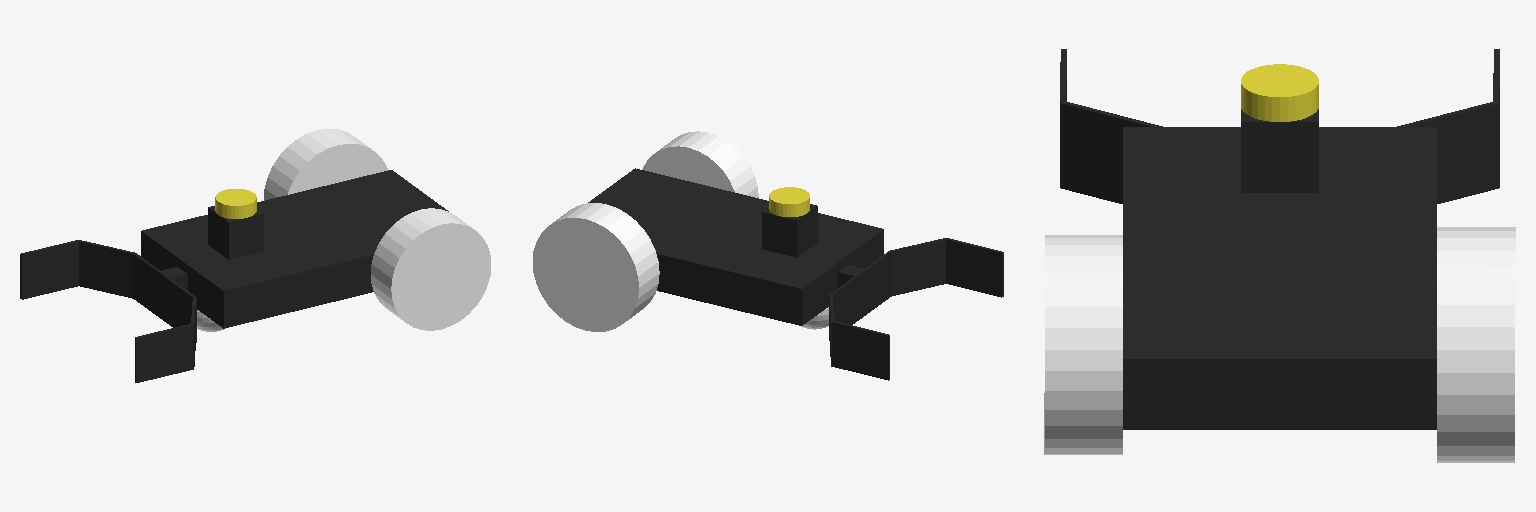
URDF robot description (exploDollyrer):
<?xml version="1.0" ?>
  <robot name="exploDollyrer">


  <link name="base_footprint">
    <visual>
      <geometry>
          <box size="0.35 0.2 0.05"/>
      </geometry>
      <material name="gray">
        <color rgba=".2 .2 .2 1" />
      </material>
    </visual>
    <inertial>
            <mass value="1" />
            <inertia ixx="0.01" ixy="0.0" ixz="0" 
            iyy="0.01" iyz="0" izz="0.01" />
    </inertial>
    <collision>
      <geometry>
        <box size="0.35 0.2 0.05"/>
    </geometry>
      
    </collision>
  </link>

  <link name="wheel_right_link">
    <inertial>
            <mass value="2" />
            <inertia ixx="0.01" ixy="0" ixz="0" iyy="0.01" iyz="0" izz="0.01" />
    </inertial>

    <visual>
      <geometry>
          <cylinder radius="0.075" length="0.05"/>
      </geometry>
      <material name="white">
        <color rgba="1 1 1 1"/>
      </material>
    </visual>

    <collision>
      <geometry>
        <cylinder radius="0.075" length="0.05"/>
      </geometry>
      <surface>
        <friction>
          <ode>
            <mu>0</mu>
            <mu2>0</mu2>
            <slip1>1.0</slip1>
            <slip2>1.0</slip2>
          </ode>
        </friction>
      </surface>
      <contact_coefficients mu="1" kp="1e+13" kd="1.0"/>
    </collision>
  </link>

  <joint name="wheel_right_joint" type="continuous">
    <origin xyz="0.1 0.125 0.0" rpy="1.57 0.0 0.0"/>
    <parent link="base_footprint"/>
    <child link="wheel_right_link"/>
    <axis xyz="0.0 0.0 1.0"/>
  </joint>

  <link name="wheel_left_link">
    <inertial>
       <mass value="2" />
       <inertia ixx="0.01" ixy="0" ixz="0" iyy="0.01" iyz="0" izz="0.01" />
    </inertial>

    <visual>
      <geometry>
          <cylinder radius="0.07" length="0.05"/>
      </geometry>
      <material name="white">
        <color rgba="1 1 1 1"/>
      </material>
    </visual>

    <collision>
      <geometry>
        <cylinder radius="0.07" length="0.05"/>
      </geometry>
      <surface>
        <friction>
          <ode>
            <mu>0</mu>
            <mu2>0</mu2>
            <slip1>1.0</slip1>
            <slip2>1.0</slip2>
          </ode>
        </friction>
      </surface>
      <contact_coefficients mu="1" kp="1e+13" kd="1.0"/>
    </collision>
  </link>

  <joint name="wheel_left_joint" type="continuous">
    <origin xyz="0.1 -0.125 0.0" rpy="1.57 0.0 0.0"/>
    <parent link="base_footprint"/>
    <child link="wheel_left_link"/>
    <axis xyz="0.0 0.0 1.0"/>

  </joint>

  <link name="caster">
    <inertial>
            <mass value="1" />
            <inertia ixx="0.01" ixy="0.0" ixz="0" iyy="0.01" iyz="0" izz="0.01" />
    </inertial>

    <visual>
      <geometry>
        <sphere radius=".04" />
      </geometry>
      <material name="white" />
    </visual>

    <collision>
      <geometry>
        <sphere radius=".04" />
      </geometry>
      <surface>
        <friction>
          <ode>
            <mu>0</mu>
            <mu2>0</mu2>
            <slip1>1.0</slip1>
            <slip2>1.0</slip2>
          </ode>
        </friction>
      </surface>
    </collision>
  </link>

  <joint name="caster_joint" type="continuous">
    <origin xyz="-0.135 0.0 -0.035" rpy="0.0 0.0 0.0"/>
    <axis xyz="0 0 1" />
    <parent link="base_footprint"/>
    <child link="caster"/>
  </joint>


<!--Front arm-->
<link name="front_arm_bar">
  <visual>
      <geometry>
          <box size="0.025 0.025 0.025"/>
      </geometry>
      <material name="gray">
        <color rgba=".2 .2 .2 1" />
      </material>
  </visual>

  <collision>
    <geometry>
      <box size="0.025 0.025 0.025"/>
    </geometry>
  </collision>

  <inertial>
      <mass value="0.5"/>
      <inertia ixx="0.01" ixy="0.0" ixz="0" iyy="0.01" iyz="0" izz="0.01" />
  </inertial>
</link>
<joint name="front_arm_bar_joint" type="fixed">
  <axis xyz="0.0 1 0.0"/>
  <parent link="base_footprint"/>
  <child link="front_arm_bar"/>
  <origin xyz="-0.187 0.0 -0.0" rpy="0.0 0.0 0.0"/>
</joint>
<!--==========================================================-->

<link name="front_arm_bar_m">
  <visual>
      <geometry>
          <box size="0.004 0.15 0.06"/>
      </geometry>
      <material name="gray">
        <color rgba=".2 .2 .2 1" />
      </material>
  </visual>

  <collision>
    <geometry>
      <box size="0.004 0.15 0.06"/>
    </geometry>
  </collision>

  <inertial>
    <mass value="0.5"/>
    <inertia ixx="0.01" ixy="0.0" ixz="0" iyy="0.01" iyz="0" izz="0.01" />
  </inertial>
</link>
<joint name="front_arm_bar_m_joint" type="fixed">
  <axis xyz="0.0 1 0.0"/>
  <parent link="base_footprint"/>
  <child link="front_arm_bar_m"/>
  <origin xyz="-0.2 0.0 -0.018" rpy="0.0 0.0 0.0"/>
</joint>
<!--==========================================================-->

<link name="front_arm_bar_s1">
  <visual>
      <geometry>
          <box size="0.004 0.08 0.06"/>
      </geometry>
      <material name="gray">
        <color rgba=".2 .2 .2 1" />
      </material>
  </visual>

  <collision>
    <geometry>
      <box size="0.004 0.08 0.06"/>
    </geometry>
  </collision>

  <inertial>
    <mass value="0.5"/>
    <inertia ixx="0.01" ixy="0.0" ixz="0" iyy="0.01" iyz="0" izz="0.01" />
  </inertial>
</link>
<joint name="front_arm_bar_s1_joint" type="fixed">
  <axis xyz="0.0 1 0.0"/>
  <parent link="base_footprint"/>
  <child link="front_arm_bar_s1"/>
  <origin xyz="-0.22 0.105 -0.018" rpy="0.0 0.0 0.55"/>
</joint>
<!--==========================================================-->

<link name="front_arm_bar_s2">
  <visual>
      <geometry>
          <box size="0.004 0.08 0.06"/>
      </geometry>
      <material name="gray">
        <color rgba=".2 .2 .2 1" />
      </material>
  </visual>

  <collision>
    <geometry>
      <box size="0.004 0.08 0.06"/>
    </geometry>
  </collision>

  <inertial>
    <mass value="0.5"/>
    <inertia ixx="0.01" ixy="0.0" ixz="0" iyy="0.01" iyz="0" izz="0.01" />
  </inertial>
</link>
<joint name="front_arm_bar_s2_joint" type="fixed">
  <axis xyz="0.0 1 0.0"/>
  <parent link="base_footprint"/>
  <child link="front_arm_bar_s2"/>
  <origin xyz="-0.22 -0.105 -0.018" rpy="0.0 0.0 -0.55"/>
</joint>
<!--==========================================================-->

<link name="front_arm_bar_r1">
  <visual>
      <geometry>
          <box size="0.004 0.08 0.06"/>
      </geometry>
      <material name="gray">
        <color rgba=".2 .2 .2 1" />
      </material>
  </visual>

  <collision>
    <geometry>
      <box size="0.004 0.08 0.06"/>
    </geometry>
  </collision>

  <inertial>
    <mass value="0.5"/>
    <inertia ixx="0.01" ixy="0.0" ixz="0" iyy="0.01" iyz="0" izz="0.01" />
  </inertial>
</link>
<joint name="front_arm_bar_r1_joint" type="fixed">
  <axis xyz="0.0 1 0.0"/>
  <parent link="base_footprint"/>
  <child link="front_arm_bar_r1"/>
  <origin xyz="-0.28 -0.138 -0.018" rpy="0.0 0.0 -1.578"/>
</joint>
<!--==========================================================-->

<link name="front_arm_bar_r2">
  <visual>
      <geometry>
          <box size="0.004 0.08 0.06"/>
      </geometry>
      <material name="gray">
        <color rgba=".2 .2 .2 1" />
      </material>
  </visual>

  <collision>
    <geometry>
      <box size="0.004 0.08 0.06"/>
    </geometry>
  </collision>

  <inertial>
    <mass value="0.5"/>
    <inertia ixx="0.01" ixy="0.0" ixz="0" iyy="0.01" iyz="0" izz="0.01" />
  </inertial>
</link>
<joint name="front_arm_bar_r2_joint" type="fixed">
  <axis xyz="0.0 1 0.0"/>
  <parent link="base_footprint"/>
  <child link="front_arm_bar_r2"/>
  <origin xyz="-0.28 0.138 -0.018" rpy="0.0 0.0 -1.578"/>
</joint>
<!--==========================================================-->

<!--Laser block-->
  <link name="laser_scanner">
    <visual>
        <geometry>
            <box size="0.05 0.05 0.05"/>
        </geometry>
        <material name="gray">
          <color rgba=".2 .2 .2 1" />
        </material>
    </visual>

    <collision>
      <geometry>
        <box size="0.05 0.05 0.05"/>
    </geometry>
    </collision>

    <inertial>
      <mass value="1" />
      <inertia ixx="0.01" ixy="0.0" ixz="0" iyy="0.01" iyz="0" izz="0.01" />
</inertial>
  </link>
<joint name="laser_scanner_joint" type="fixed">
  <axis xyz="0.0 1 0.0"/>
  <parent link="base_footprint"/>
  <child link="laser_scanner"/>
  <origin xyz="-0.1 0.0 0.05" rpy="0.0 0.0 0.0"/>
</joint>

<!-- laser -->
<link name="laser">
  <inertial>
    <mass value="1e-5"/>
    <inertia ixx="1e-6" ixy="0" ixz="0.0" iyy="1e-6" iyz="0.0" izz="1e-6"/>
</inertial>

  <visual>
    <geometry>
      <cylinder radius="0.025" length="0.025"/> 
     </geometry>
  </visual>

  <collision>
    <origin/>
    <geometry>
      <cylinder radius="0.025" length="0.025"/> 
    </geometry>
  </collision>
</link>

<joint name="laser_joint" type="fixed">
  <origin xyz="-0.1 0.0 0.08" rpy="0.0 0.0 3.14"/>
  <axis xyz="0 0 1" />
  <parent link="base_footprint"/>
  <child link="laser"/>
</joint>


<gazebo reference="laser">
  <sensor type="ray" name="laser">
      <pose>0 0 0 0 0 0</pose>
      <visualize>true</visualize>
      <update_rate>40</update_rate>
      <ray>
          <scan>
              <horizontal>
                  <samples>720</samples>
                  <resolution>0.5</resolution>
                  <min_angle>-1.578</min_angle>
                  <max_angle>1.578</max_angle>
              </horizontal>
          </scan>
          <range>
              <min>0.1</min>
              <max>2</max>
              <resolution>0.1</resolution>
          </range>
      </ray>
      <plugin name="laser_controller" filename="libgazebo_ros_laser.so">
        
          <topicName>/scan</topicName>
          <frameName>laser</frameName>
      </plugin>
  </sensor>
</gazebo>


<!-- DIFFENERNTIAL DRIVEEEEEEEEEEEEE -->

<gazebo>
  <plugin name="Dolly_bot_controller"
          filename="libgazebo_ros_diff_drive.so">
      <leftJoint>wheel_left_joint</leftJoint>
      <rightJoint>wheel_right_joint</rightJoint>
      <legacyMode>false</legacyMode>
      
      <robotbase_footprintFrame>base_footprint</robotbase_footprintFrame>
      <wheelSeparation>0.125</wheelSeparation>
      <wheelDiameter>0.035</wheelDiameter>
      <publishWheelJointState>true</publishWheelJointState>
  </plugin>
</gazebo>
 <gazebo>
  <plugin name="joint_state_publisher"
          filename="libgazebo_ros_joint_state_publisher.so">
      <jointName>caster_joint</jointName>
  </plugin>
</gazebo>


<!-- Gazebo colors to links as upper defined colors are only visible in RVIZ-->
<gazebo reference="base_footprint">
  <material>Gazebo/Orange</material>
</gazebo>
<gazebo reference="caster">
  <material>Gazebo/Black</material>
</gazebo>
<gazebo reference="wheel_right_link">
  <material>Gazebo/Blue</material>
</gazebo>
<gazebo reference="wheel_left_link">
  <material>Gazebo/Blue</material>
</gazebo> 
<gazebo reference="laser">
  <material>Gazebo/Red</material>
</gazebo> 

</robot>

--- Render facts (derived) ---
Views: 3 orthographic renders of the robot side by side, from view 1: azimuth 30°, elevation 25°; view 2: azimuth 150°, elevation 25°; view 3: azimuth 270°, elevation 25°.
Robot: exploDollyrer — 12 links, 11 joints (3 continuous, 8 fixed); root link base_footprint; default pose: all joints at 0.
Visible links, largest first — view 1: base_footprint, wheel_left_link, wheel_right_link, front_arm_bar_r1, front_arm_bar_r2, front_arm_bar_m, front_arm_bar_s1, laser_scanner, laser; view 2: base_footprint, wheel_right_link, wheel_left_link, front_arm_bar_r2, front_arm_bar_r1, front_arm_bar_m, front_arm_bar_s2, laser_scanner, laser; view 3: base_footprint, wheel_right_link, wheel_left_link, laser_scanner, front_arm_bar_s2, front_arm_bar_s1, laser.
Link boxes in pixels (x1,y1,x2,y2): base_footprint: (141, 170, 448, 328); wheel_left_link: (371, 208, 490, 330); wheel_right_link: (264, 129, 387, 200); front_arm_bar_r1: (135, 324, 193, 382); front_arm_bar_r2: (20, 240, 78, 299); front_arm_bar_m: (133, 253, 196, 342); front_arm_bar_s1: (77, 240, 135, 298); laser_scanner: (208, 206, 263, 259); laser: (215, 189, 256, 218); base_footprint: (588, 168, 883, 325); wheel_right_link: (533, 203, 659, 331); wheel_left_link: (642, 131, 758, 197); front_arm_bar_r2: (832, 321, 889, 380); front_arm_bar_r1: (946, 238, 1003, 297); front_arm_bar_m: (831, 250, 891, 324); front_arm_bar_s2: (890, 238, 946, 295); laser_scanner: (762, 204, 817, 257); laser: (769, 187, 809, 216); base_footprint: (1123, 127, 1436, 429); wheel_right_link: (1437, 227, 1515, 462); wheel_left_link: (1044, 235, 1122, 454); laser_scanner: (1241, 109, 1318, 192); front_arm_bar_s2: (1060, 101, 1162, 203); front_arm_bar_s1: (1397, 101, 1499, 203); laser: (1241, 64, 1318, 121).
Size in the robot's own frame: 0.495 by 0.3001 by 0.1675 metres.
Geometry: primitives only (box / cylinder / sphere), no mesh files.
